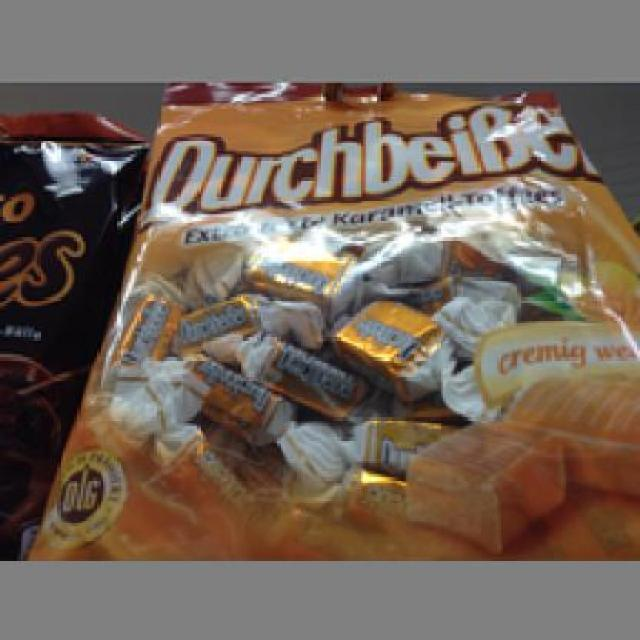Candy: (63, 96, 632, 550)
